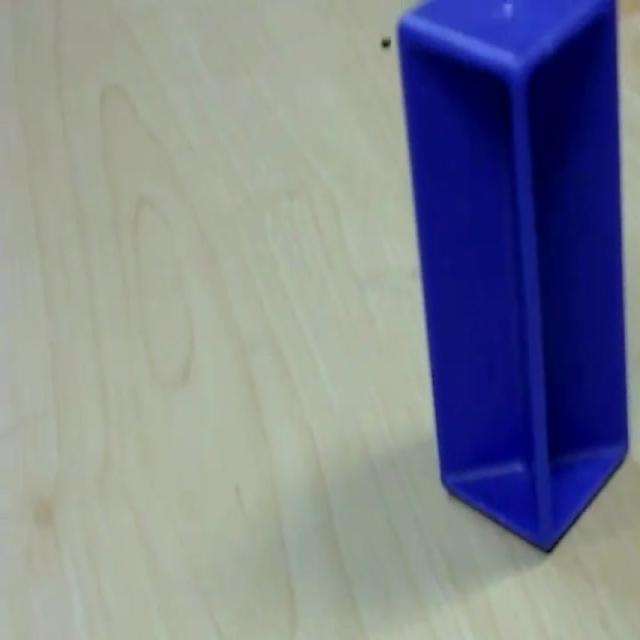blue_block: (393, 0, 630, 553)
